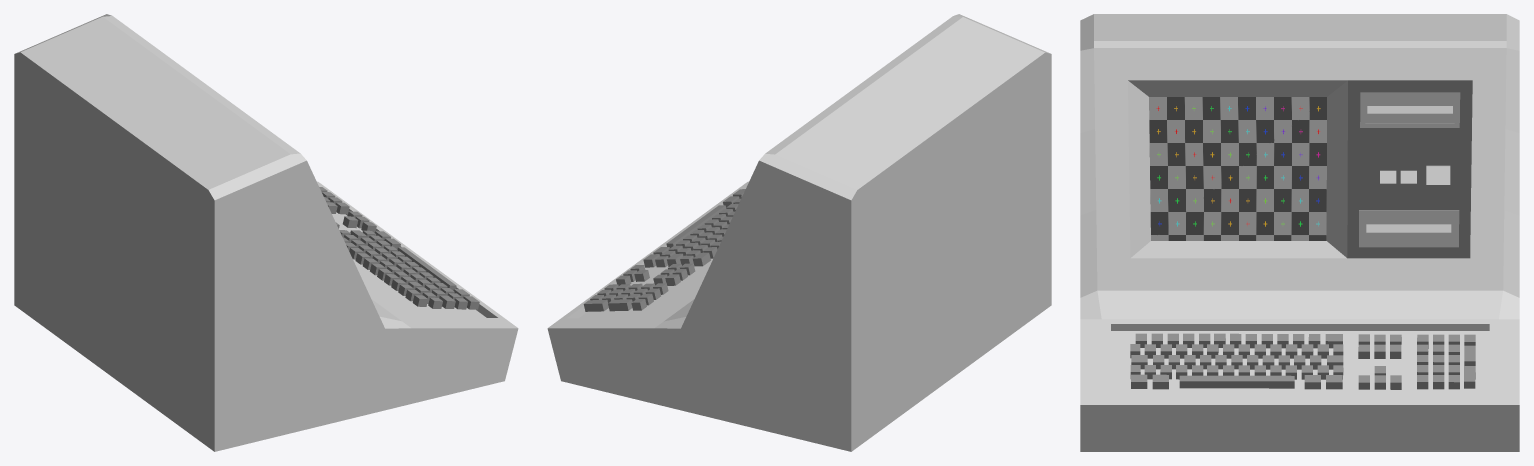
The model's file is computer_old.glb.
3 views of the same model, side by side, from view 1: azimuth 30°, elevation 25°; view 2: azimuth 150°, elevation 25°; view 3: azimuth 270°, elevation 25° (orthographic). The views are drawn at different scales.
Visible parts, largest first — view 1: Computer.Old.001; view 2: Computer.Old.001; view 3: Computer.Old.001, targetScreen, Computer.Old.Button.001.
Part boxes in pixels (left/top/right/bottom): Computer.Old.001: left=14, top=14, right=518, bottom=451; Computer.Old.001: left=547, top=14, right=1051, bottom=451; Computer.Old.001: left=1080, top=14, right=1519, bottom=451; targetScreen: left=1149, top=97, right=1326, bottom=240; Computer.Old.Button.001: left=1426, top=165, right=1450, bottom=184.
Bounding box in the file's own units: 0.5622 × 0.4826 × 0.6413.
6 materials, 1 textured.
